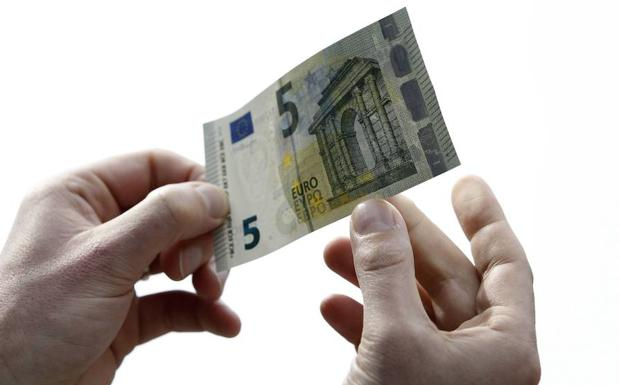billete: (201, 5, 464, 275)
